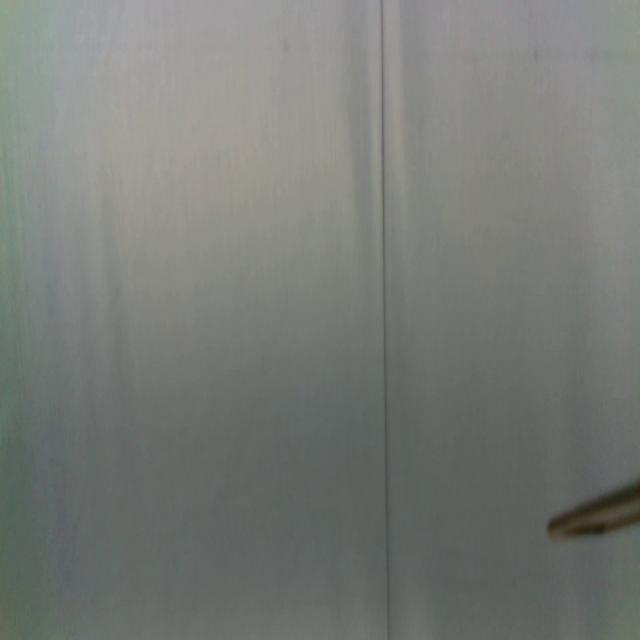crease: (376, 0, 394, 640)
